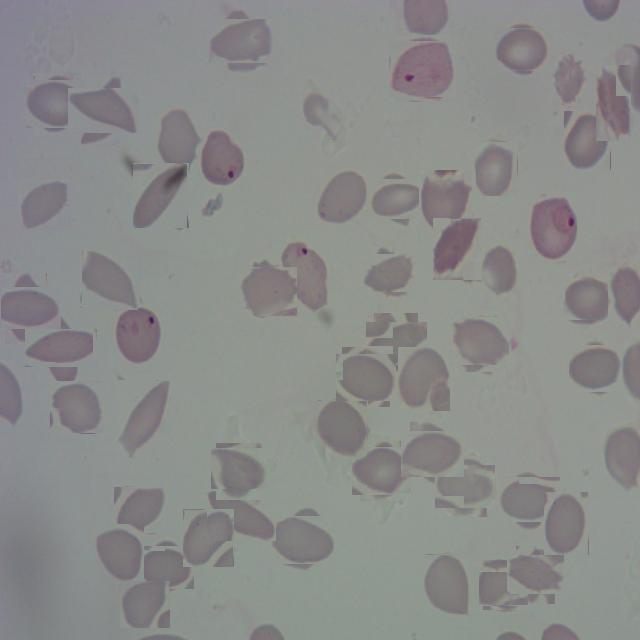leukocyte: (118, 380, 171, 458), (132, 163, 188, 228), (207, 489, 276, 541), (81, 252, 139, 310), (74, 82, 132, 140), (398, 347, 450, 411), (419, 170, 472, 232), (274, 511, 331, 568), (214, 14, 270, 70), (0, 280, 55, 336), (34, 321, 90, 376), (315, 166, 367, 225), (406, 426, 460, 482), (433, 218, 481, 280), (30, 77, 84, 132), (156, 106, 201, 172), (240, 264, 294, 319), (183, 509, 234, 567), (354, 444, 408, 498), (502, 473, 556, 527), (339, 350, 393, 404), (452, 314, 506, 368), (94, 524, 144, 582), (544, 491, 589, 555), (318, 400, 368, 457), (564, 110, 611, 170), (596, 64, 632, 141), (424, 554, 470, 614), (370, 317, 422, 370), (439, 460, 492, 512), (213, 446, 266, 498), (51, 382, 102, 434), (116, 484, 167, 535), (570, 344, 621, 394), (142, 542, 192, 592), (20, 179, 70, 229), (373, 174, 422, 224), (120, 580, 170, 629), (498, 24, 546, 74), (476, 141, 518, 196), (512, 551, 560, 599), (480, 244, 520, 297), (481, 562, 526, 608), (368, 250, 413, 296), (566, 278, 608, 320), (554, 54, 586, 106)
red blood cell: (392, 37, 454, 100), (529, 193, 579, 261)
